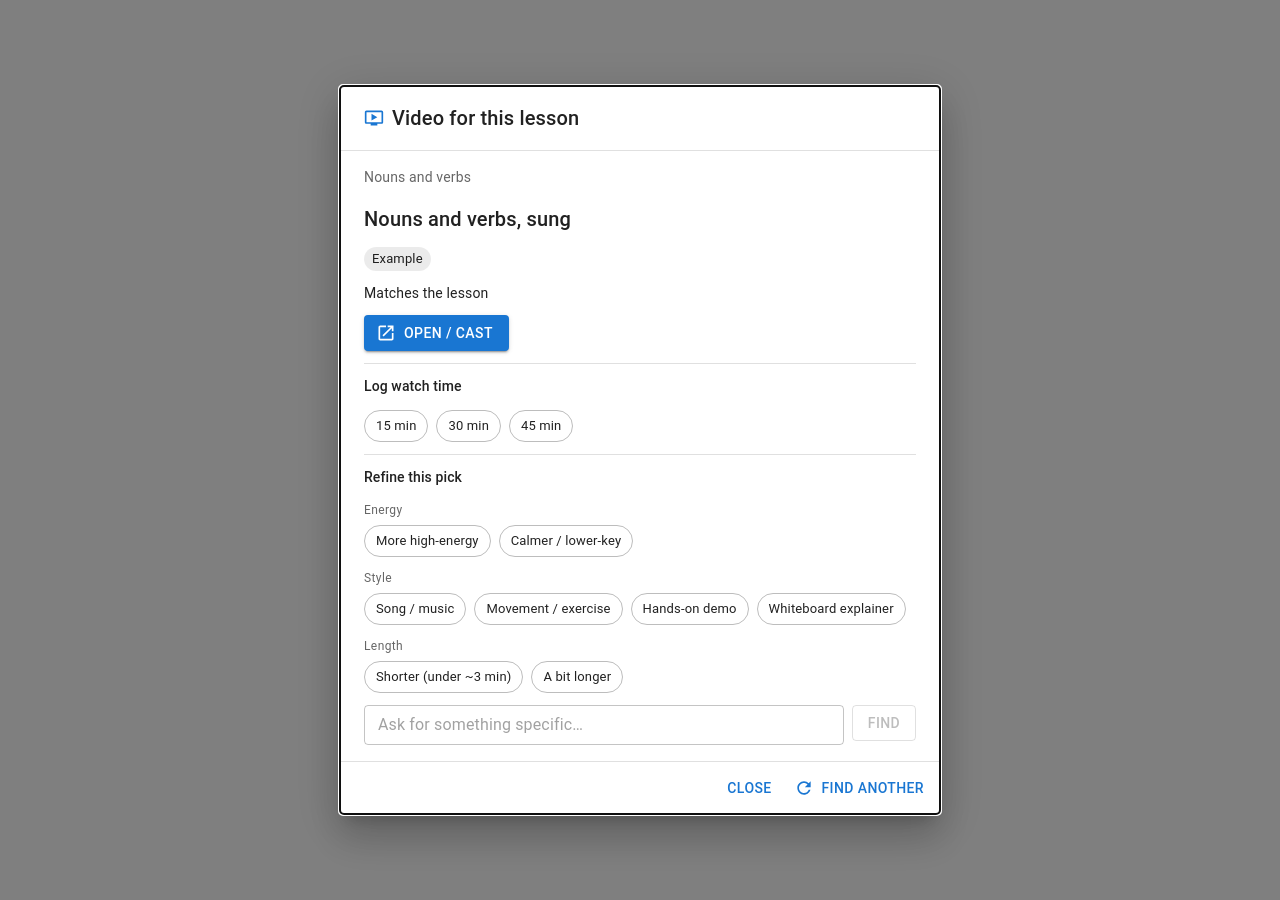
Test: a picked video does not follow the parent to another child › still logs the minutes it always logged when nothing moved
Expected: the heading "Nouns and verbs, sung" is shown, [364,207,571,231]
Step 1. Click the button "30 min" → click(469, 426), box [436,410,501,442]
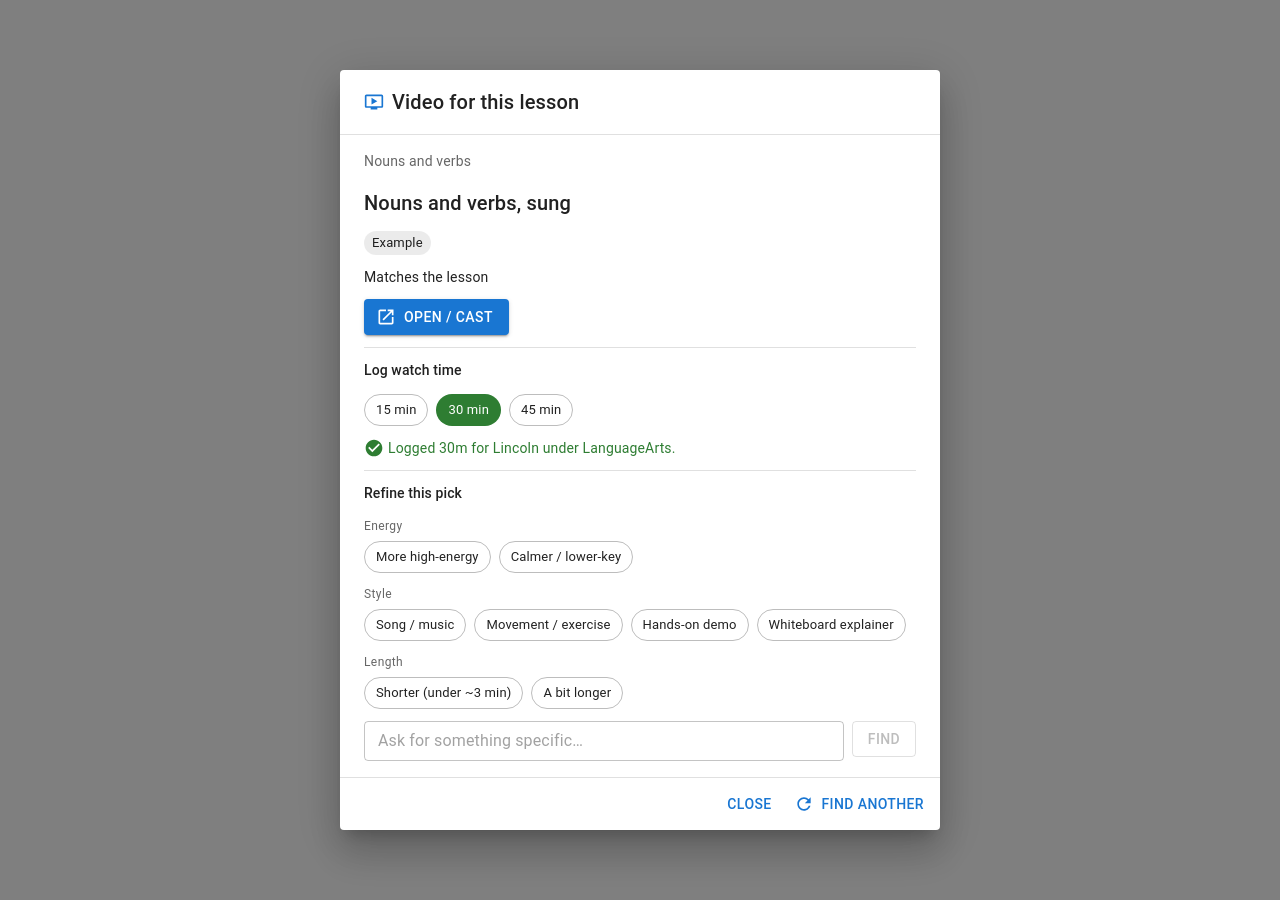
Now the text "Logged 30m for Lincoln under LanguageArts." is shown, box [364,438,676,458]
